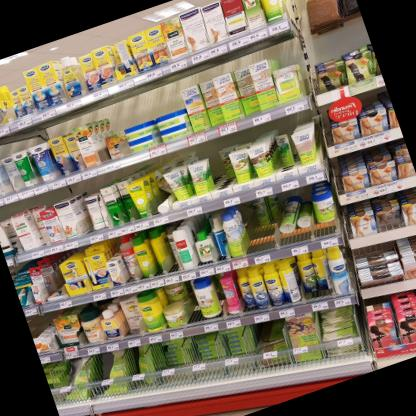empty_space: (250, 320, 288, 355), (246, 222, 280, 252), (217, 177, 234, 188)
